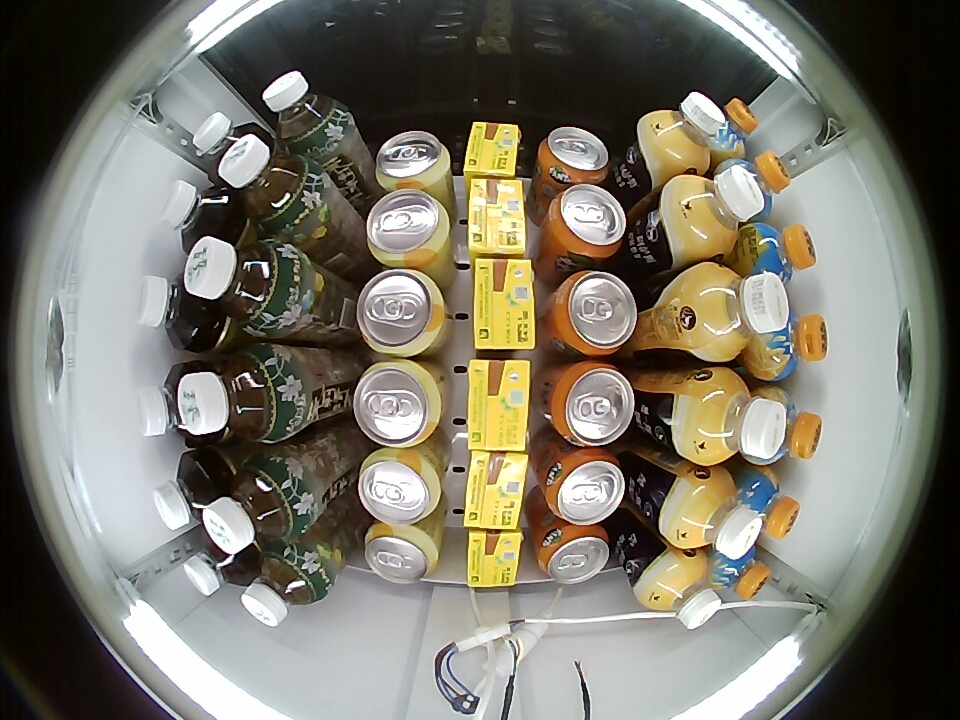asamu: (688, 371, 792, 465), (693, 266, 792, 359), (674, 161, 772, 253), (636, 91, 750, 170), (668, 472, 767, 559), (644, 557, 722, 630)
fenda: (554, 270, 638, 357), (552, 361, 636, 447), (548, 184, 628, 261), (546, 449, 626, 525), (538, 525, 611, 584), (538, 126, 611, 183)
guolicheng: (749, 314, 829, 380), (736, 223, 818, 287), (758, 384, 822, 465), (725, 150, 791, 222), (735, 468, 800, 540), (707, 545, 771, 606), (710, 97, 758, 168)
mangguoxiaolao: (352, 359, 443, 448), (356, 269, 446, 358), (365, 189, 451, 268), (358, 448, 442, 525), (375, 130, 451, 191), (364, 524, 439, 584)
moliqingcha: (178, 343, 294, 445), (186, 236, 301, 336), (220, 135, 325, 234), (202, 456, 309, 553), (241, 541, 331, 627), (262, 70, 350, 155)
weitaningmeng: (466, 359, 532, 451), (473, 258, 537, 350), (462, 450, 530, 530), (467, 178, 530, 256), (463, 121, 522, 179), (467, 529, 523, 589)
wulongcha: (136, 272, 210, 349), (189, 112, 265, 181), (152, 454, 220, 530), (135, 363, 203, 439), (160, 179, 232, 250), (182, 531, 251, 596)
